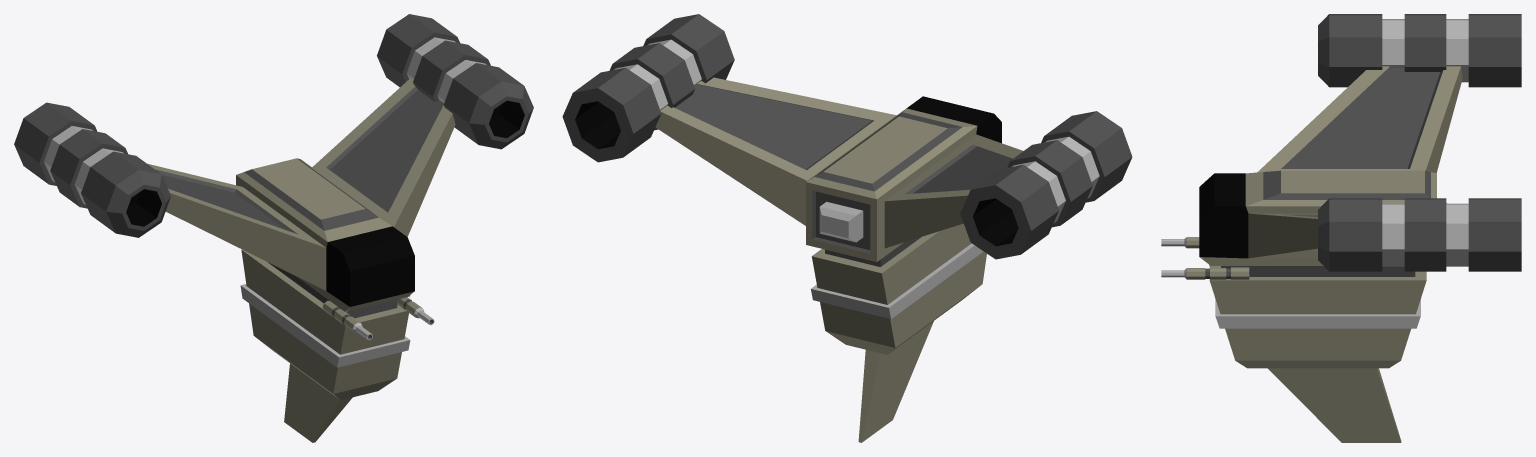
File: Spaceship11_3.fbx
3 views of the same model, side by side, from view 1: azimuth 30°, elevation 25°; view 2: azimuth 150°, elevation 25°; view 3: azimuth 270°, elevation 25° (orthographic). The views are drawn at different scales.
Visible parts, largest first — view 1: Spaceship11_3; view 2: Spaceship11_3; view 3: Spaceship11_3.
Part boxes in pixels (bbox=[...]): Spaceship11_3: bbox=[14, 14, 533, 442]; Spaceship11_3: bbox=[562, 14, 1132, 442]; Spaceship11_3: bbox=[1161, 14, 1521, 442].
Size of the model in its own units: 1319 by 947 by 924.
